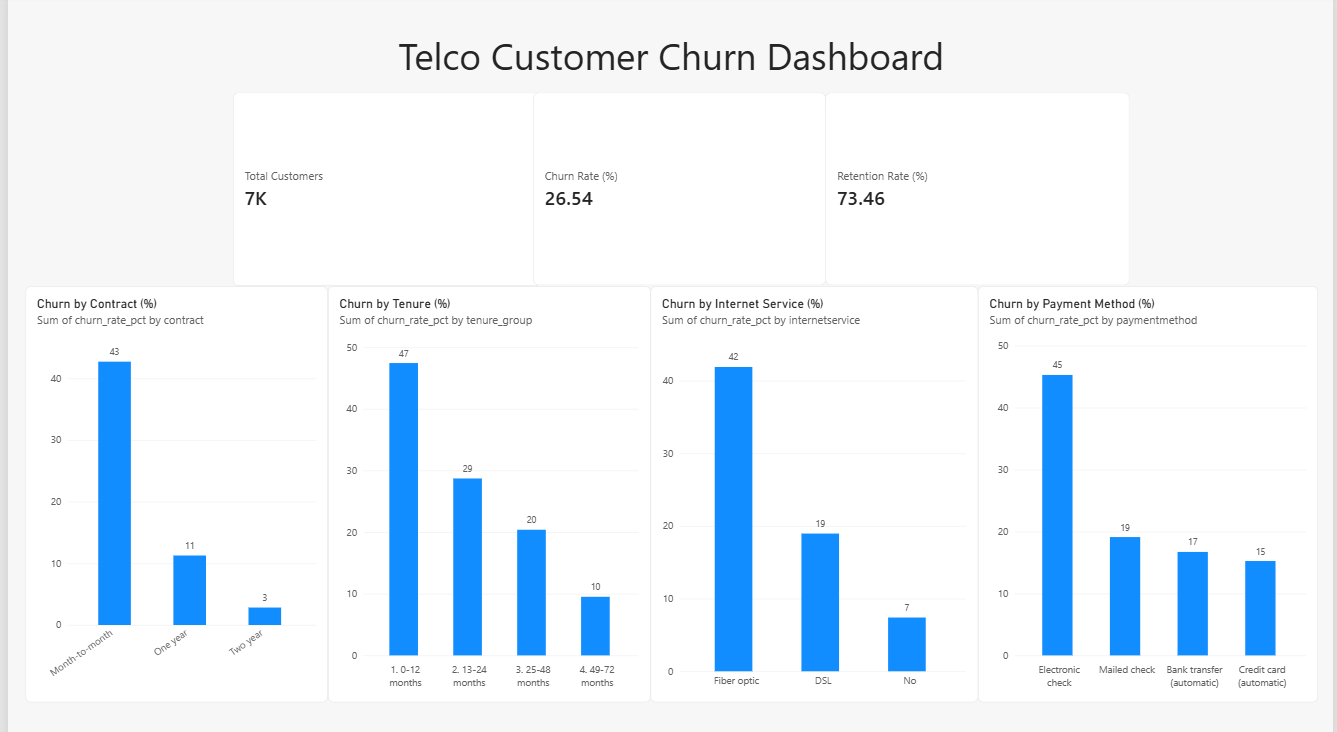

The dashboard page shown, as its layout file describes it:
{"tool":"powerbi","page":{"name":"Page 1","canvas":[1920,1080],"ordinal":0},"visuals":[{"type":"cardVisual","fields":{"Data":["Sum(kpi.total_customers)"]},"box":[325.7,141.2,447,280.5],"z":0},{"type":"cardVisual","fields":{"Data":["Sum(kpi.churn_rate_pct)"]},"box":[760.1,141.2,424,279.9],"z":1000},{"type":"cardVisual","fields":{"Data":["Sum(kpi.retention_rate_pct)"]},"box":[1183.5,141.2,440.5,279.9],"z":2000},{"type":"textbox","box":[0,51.5,1920.4,119.4],"z":3000},{"type":"clusteredColumnChart","title":"Churn by Contract (%)","fields":{"Category":["contract.contract"],"Y":["Sum(contract.churn_rate_pct)"]},"box":[25.3,421.7,437.9,602.6],"z":4000},{"type":"clusteredColumnChart","title":"Churn by Tenure (%)","fields":{"Category":["tenure.tenure_group"],"Y":["Sum(tenure.churn_rate_pct)"]},"box":[463.3,421.7,466.9,602.6],"z":4001},{"type":"clusteredColumnChart","title":"Churn by Internet Service (%)","fields":{"Category":["internet.internetservice"],"Y":["Sum(internet.churn_rate_pct)"]},"box":[930.2,421.7,474.1,602.6],"z":4002},{"type":"clusteredColumnChart","title":"Churn by Payment Method (%)","fields":{"Category":["payment.paymentmethod"],"Y":["Sum(payment.churn_rate_pct)"]},"box":[1404.3,421.7,492.2,602.6],"z":4003}]}

Visuals, with their boxes in screenshot pixels (x1, y1, x2, y2), scaled from the page's 1920x1080 canvas onto the 1337x732 screenshot:
cardVisual - Sum(kpi.total_customers): <region>227, 96, 538, 286</region>
cardVisual - Sum(kpi.churn_rate_pct): <region>529, 96, 825, 285</region>
cardVisual - Sum(kpi.retention_rate_pct): <region>824, 96, 1131, 285</region>
textbox: <region>0, 35, 1336, 116</region>
"Churn by Contract (%)" clusteredColumnChart: <region>18, 286, 323, 694</region>
"Churn by Tenure (%)" clusteredColumnChart: <region>323, 286, 648, 694</region>
"Churn by Internet Service (%)" clusteredColumnChart: <region>648, 286, 978, 694</region>
"Churn by Payment Method (%)" clusteredColumnChart: <region>978, 286, 1321, 694</region>
